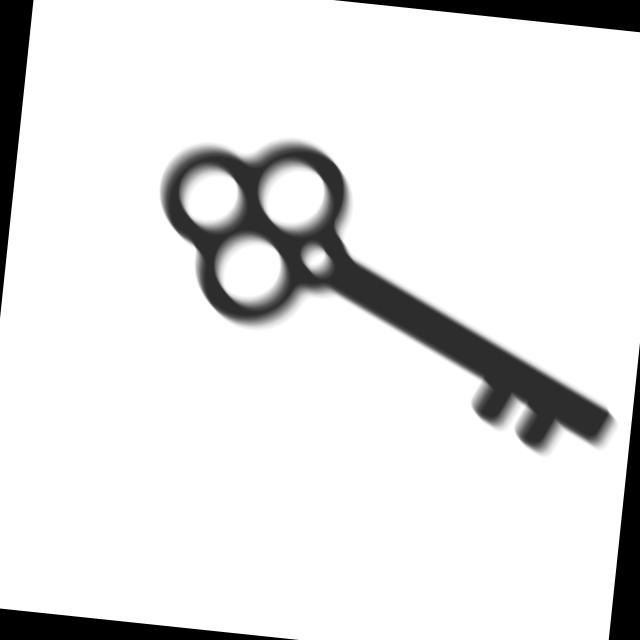key: (128, 115, 640, 476)
